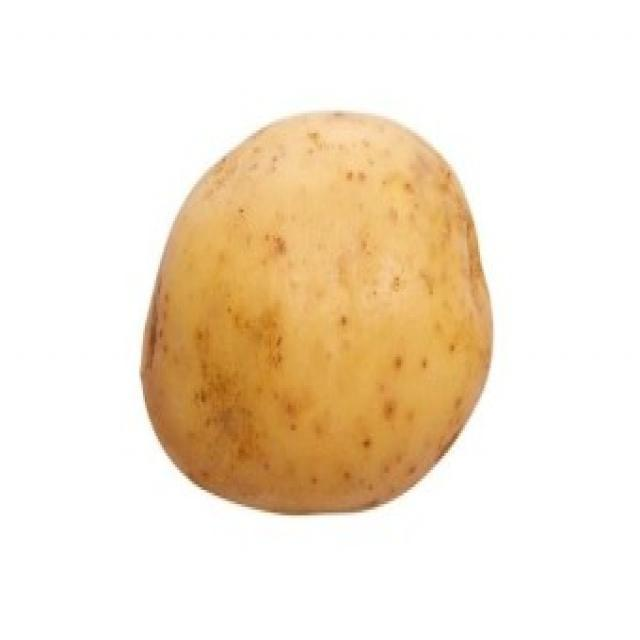potato: (138, 106, 497, 516)
